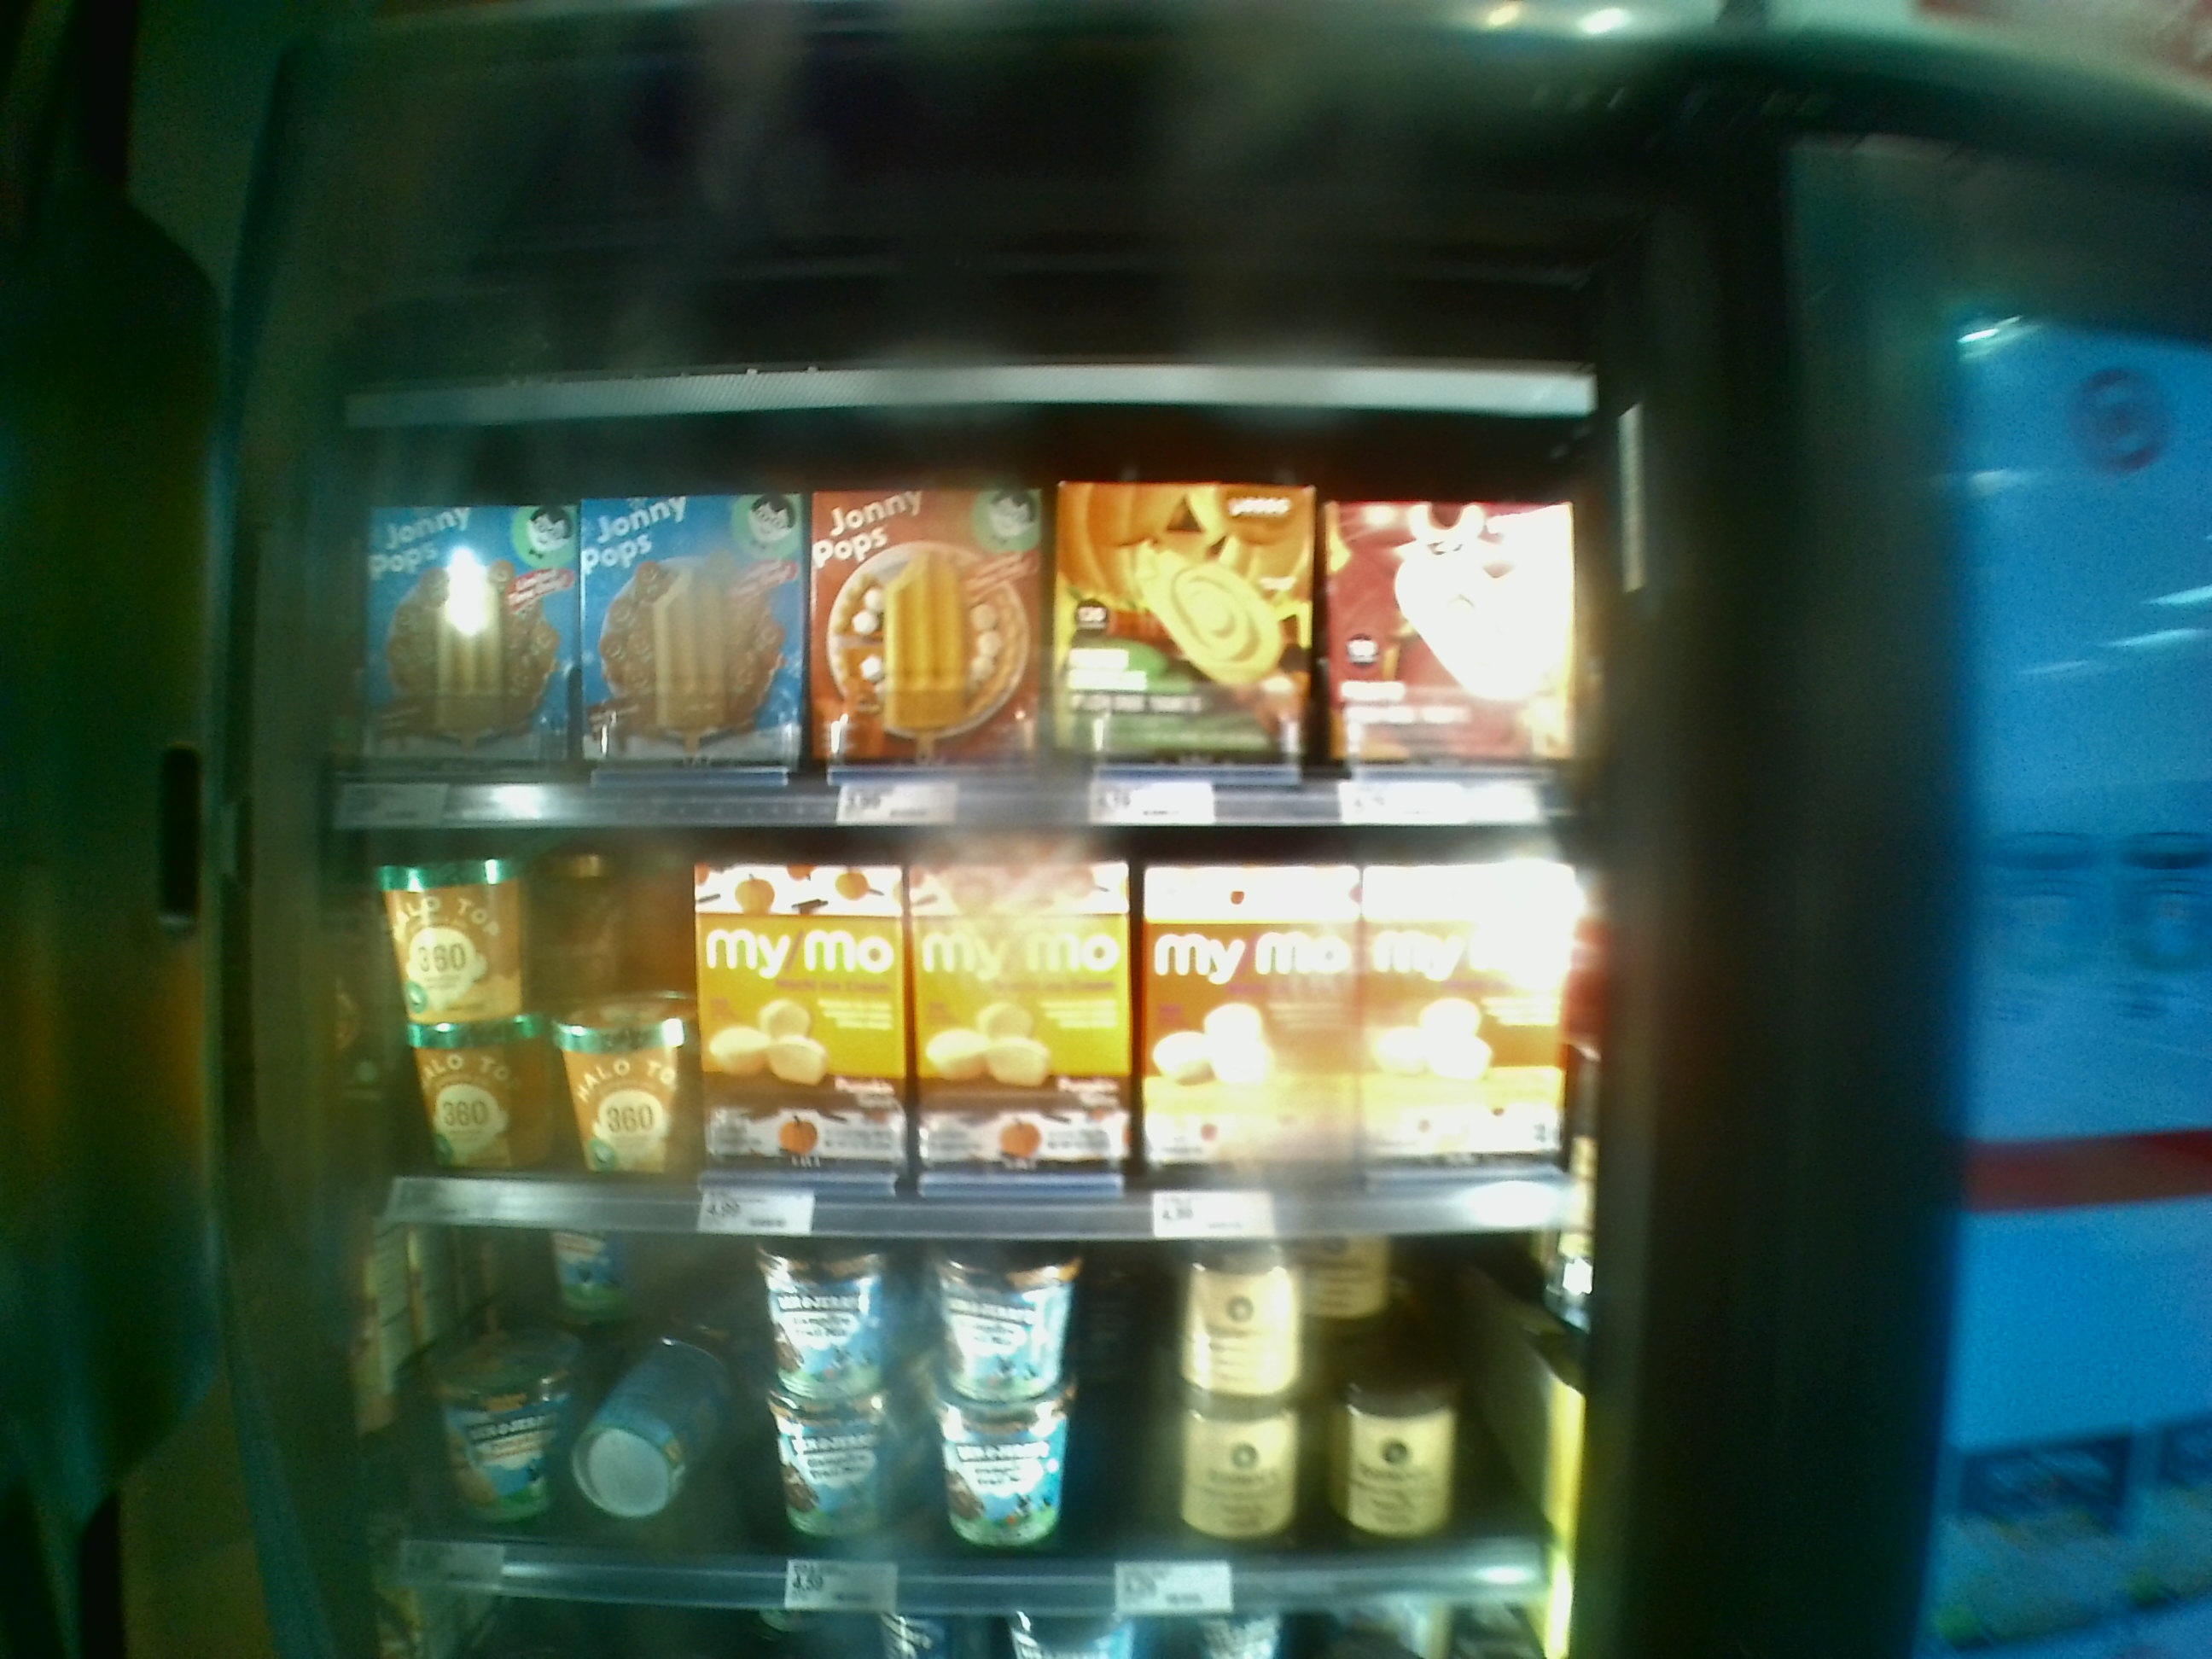shelf: (296, 793, 1597, 1246), (298, 1190, 1576, 1617), (324, 399, 1594, 821)
